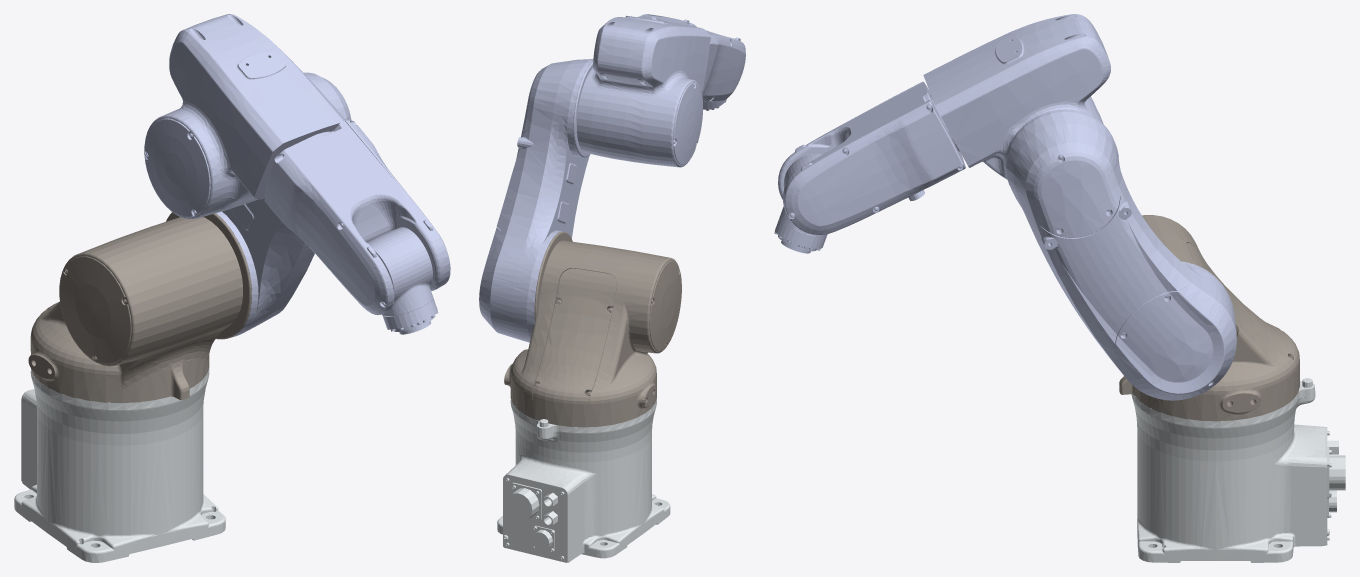
Rendered from 6robot.dae.
3 renders of one model, left to right at view 1: azimuth 30°, elevation 25°; view 2: azimuth 150°, elevation 25°; view 3: azimuth 270°, elevation 25°, orthographic. The views are drawn at different scales.
Parts seen in each view (by area): view 1: arm1, SCUT_robot, arm3, arm4, arm2, arm5; view 2: arm1, SCUT_robot, arm3, arm2, arm4; view 3: arm2, SCUT_robot, arm3, arm4, arm1, arm5.
Boxes of the visible parts, x1,y1,x2,y2 form: arm1: (28, 212, 251, 402); SCUT_robot: (14, 367, 225, 562); arm3: (144, 14, 345, 219); arm4: (264, 120, 450, 315); arm2: (216, 72, 351, 337); arm5: (367, 227, 438, 331); arm1: (504, 231, 681, 427); SCUT_robot: (497, 398, 670, 562); arm3: (573, 15, 710, 167); arm2: (479, 59, 593, 342); arm4: (637, 14, 745, 101); arm2: (1005, 110, 1236, 400); SCUT_robot: (1131, 378, 1345, 562); arm3: (923, 14, 1110, 179); arm4: (778, 81, 965, 234); arm1: (1119, 215, 1299, 421); arm5: (774, 154, 827, 250).
Size of the model in its own units: 0.3087 by 0.7281 by 0.7224.
